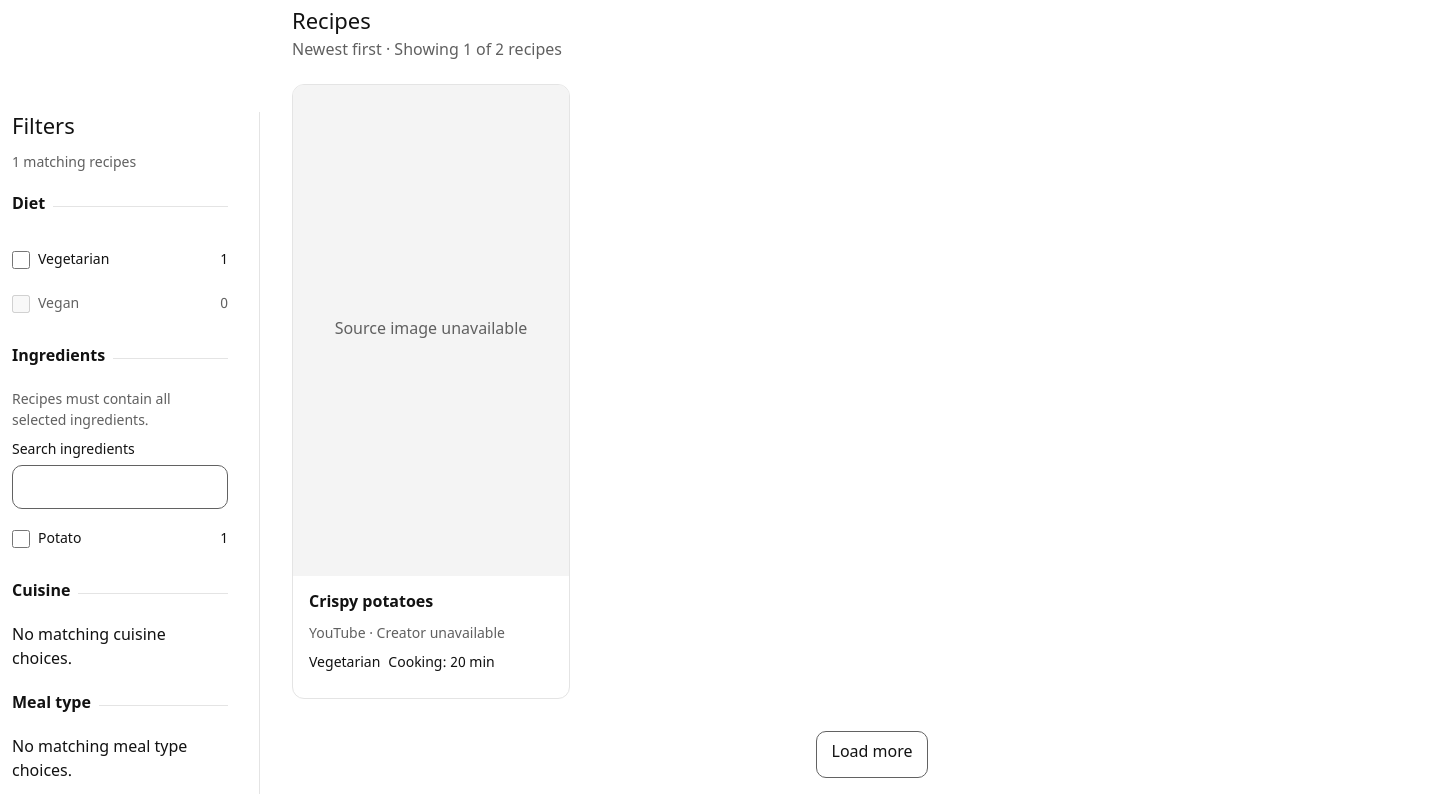
Test: keeps pages on append failure, retries, deduplicates and announces terminal results
The width and height of the screenshot is (1452, 810).
(page scrolled)
Click the button "Load more" at (872, 754), box x1=816 y1=731 x2=928 y2=778
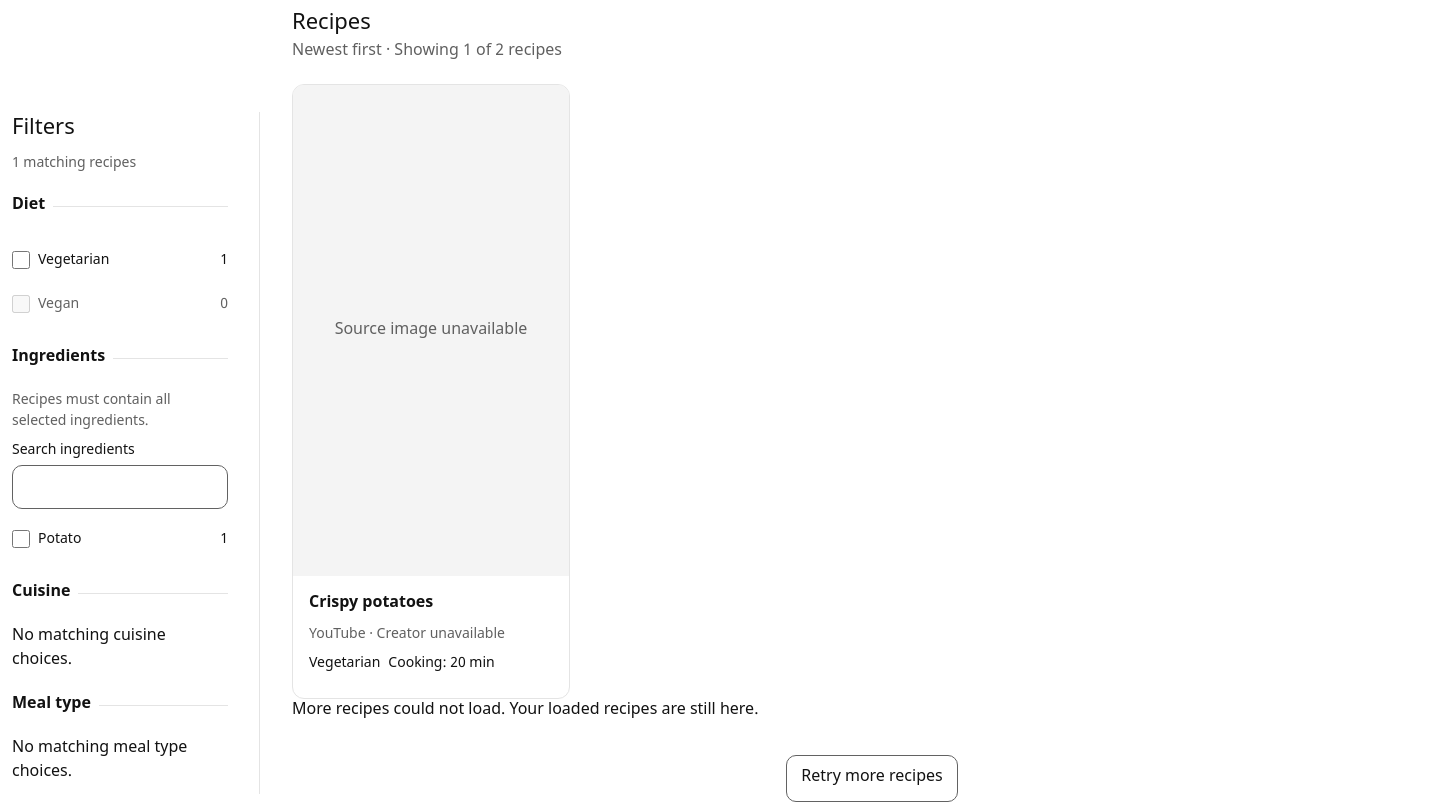
Check: the number of links "Crispy potatoes" is 1, box x1=292 y1=84 x2=570 y2=699
Check: the text "More recipes could not load. Your loaded recipes are still here." is shown, box x1=292 y1=700 x2=758 y2=721
Click the button "Retry more recipes" at (872, 778), box x1=786 y1=755 x2=958 y2=802
(page scrolled)
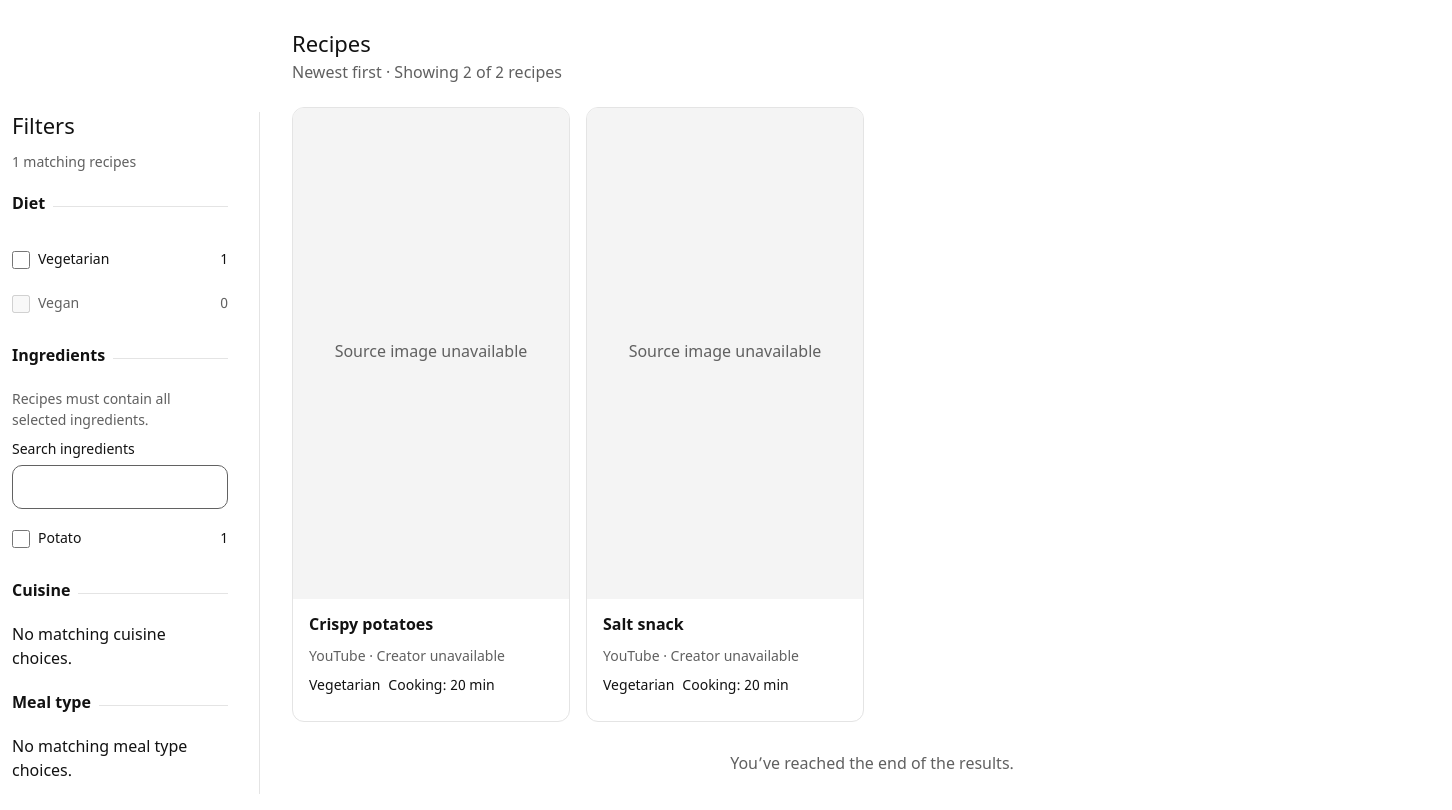
Check: the link "Salt snack" is shown, box x1=586 y1=107 x2=864 y2=722
Check: the text "You’ve reached the end of the results." is shown, box x1=730 y1=755 x2=1014 y2=776
